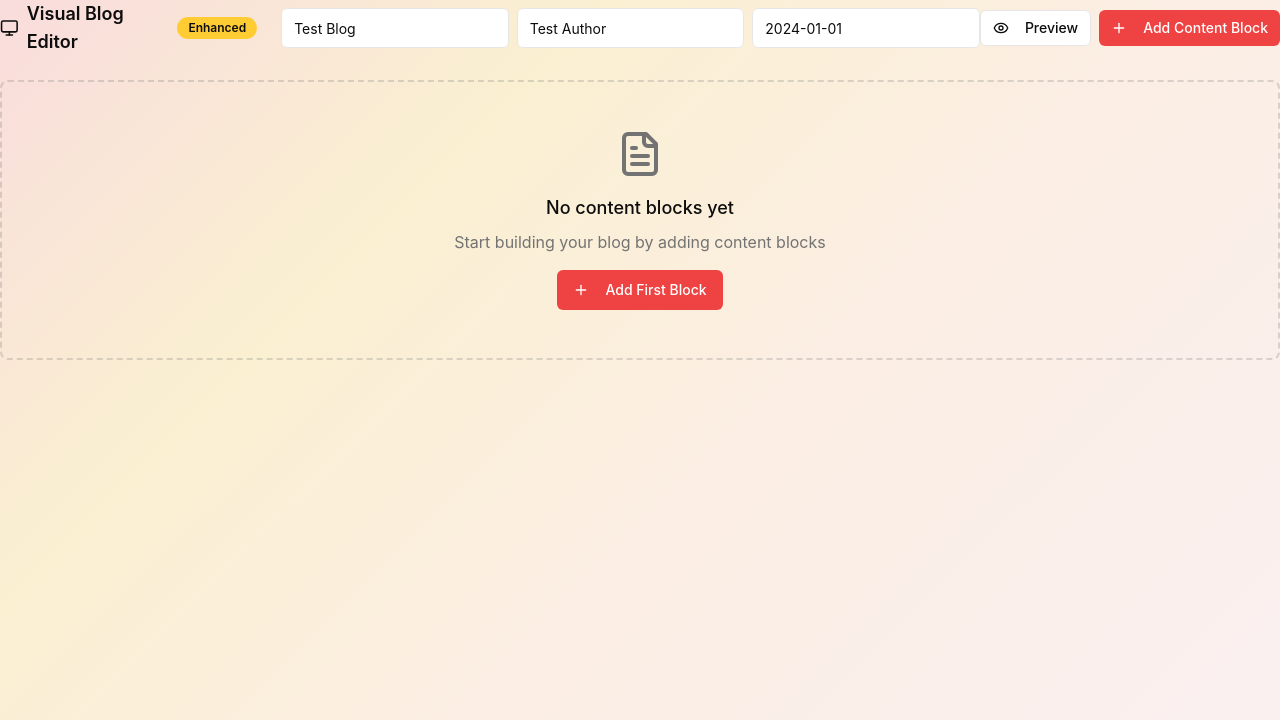
it: DragDropBlogEditor Component › displays block type selector
The width and height of the screenshot is (1280, 720).
Step 1. Click the button "Add Content Block" → x=1190, y=28, box [1099,10,1279,46]
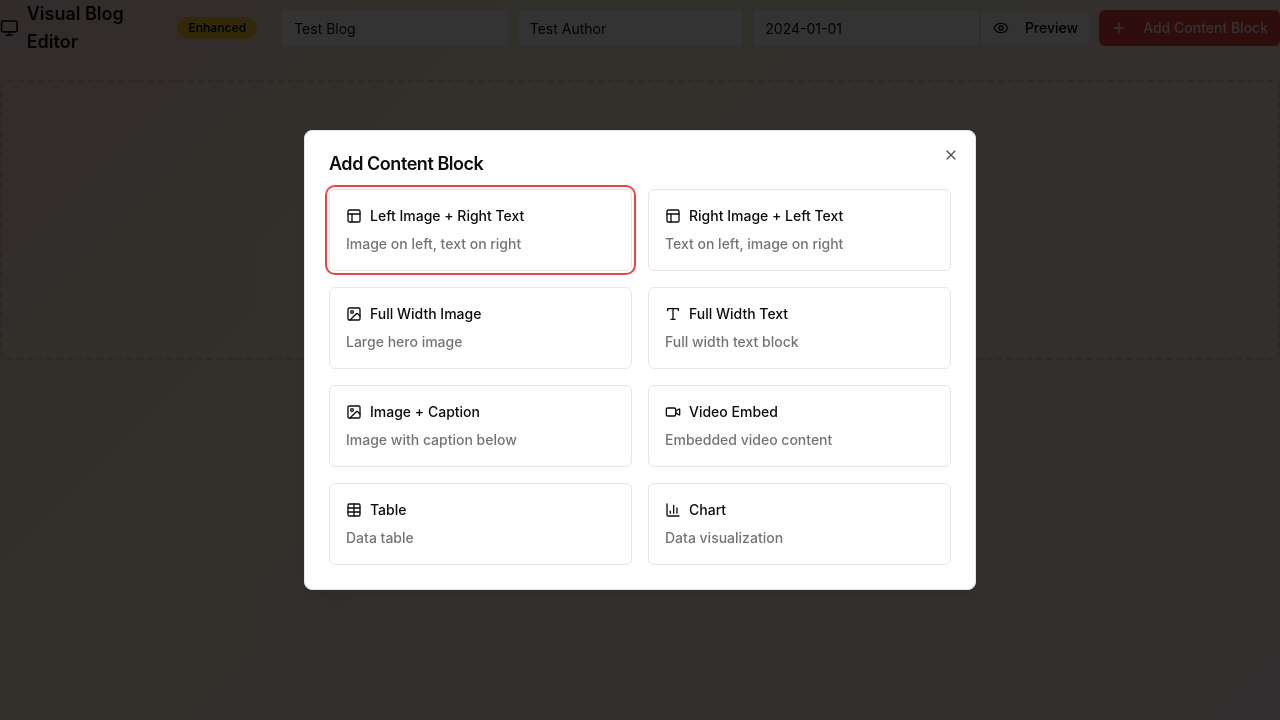
Now the text "Left Image + Right Text" is shown, box [370,206,524,226]
Now the text "Right Image + Left Text" is shown, box [689,206,843,226]
Now the text "Full Width Image" is shown, box [370,304,482,324]
